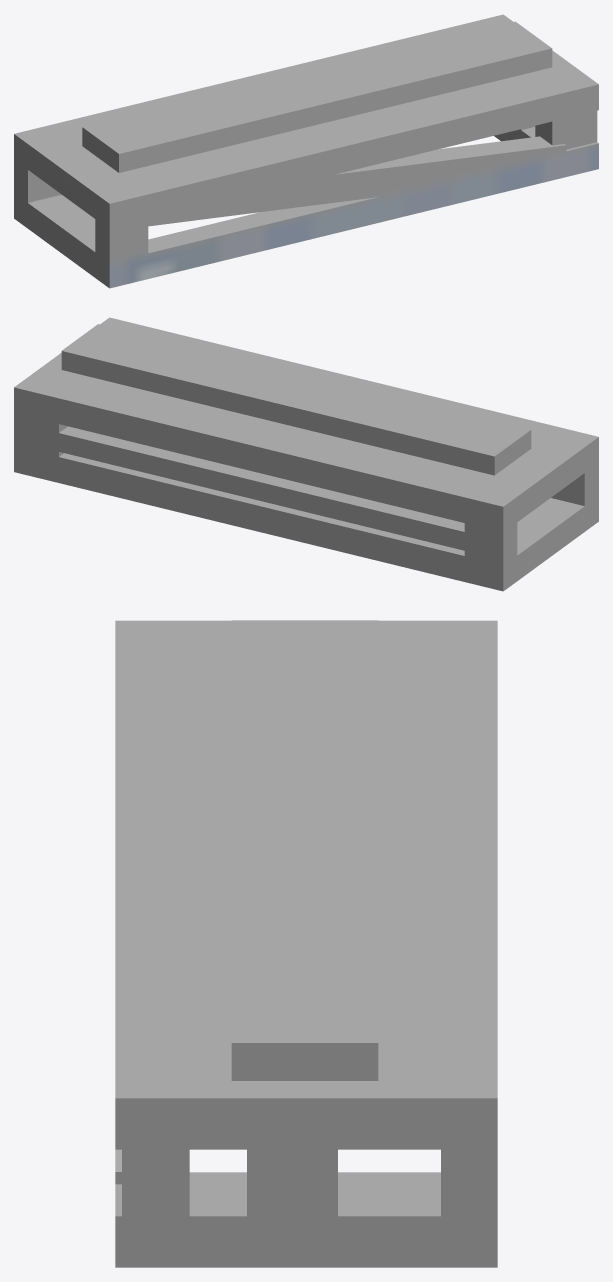
File: JumpDrive_Small_Constr2.fbx
3 views of the same model, one above another, from view 1: azimuth 30°, elevation 25°; view 2: azimuth 150°, elevation 25°; view 3: azimuth 270°, elevation 25° (orthographic). The views are drawn at different scales.
Visible parts, largest first — view 1: Cube.003; view 2: Cube.003; view 3: Cube.003.
Boxes of the visible parts, left/top/right/bottom form: Cube.003: left=14, top=14, right=598, bottom=288; Cube.003: left=14, top=317, right=598, bottom=591; Cube.003: left=115, top=620, right=497, bottom=1267.
Size of the model in its own units: 1.47 by 0.2977 by 0.4972.
